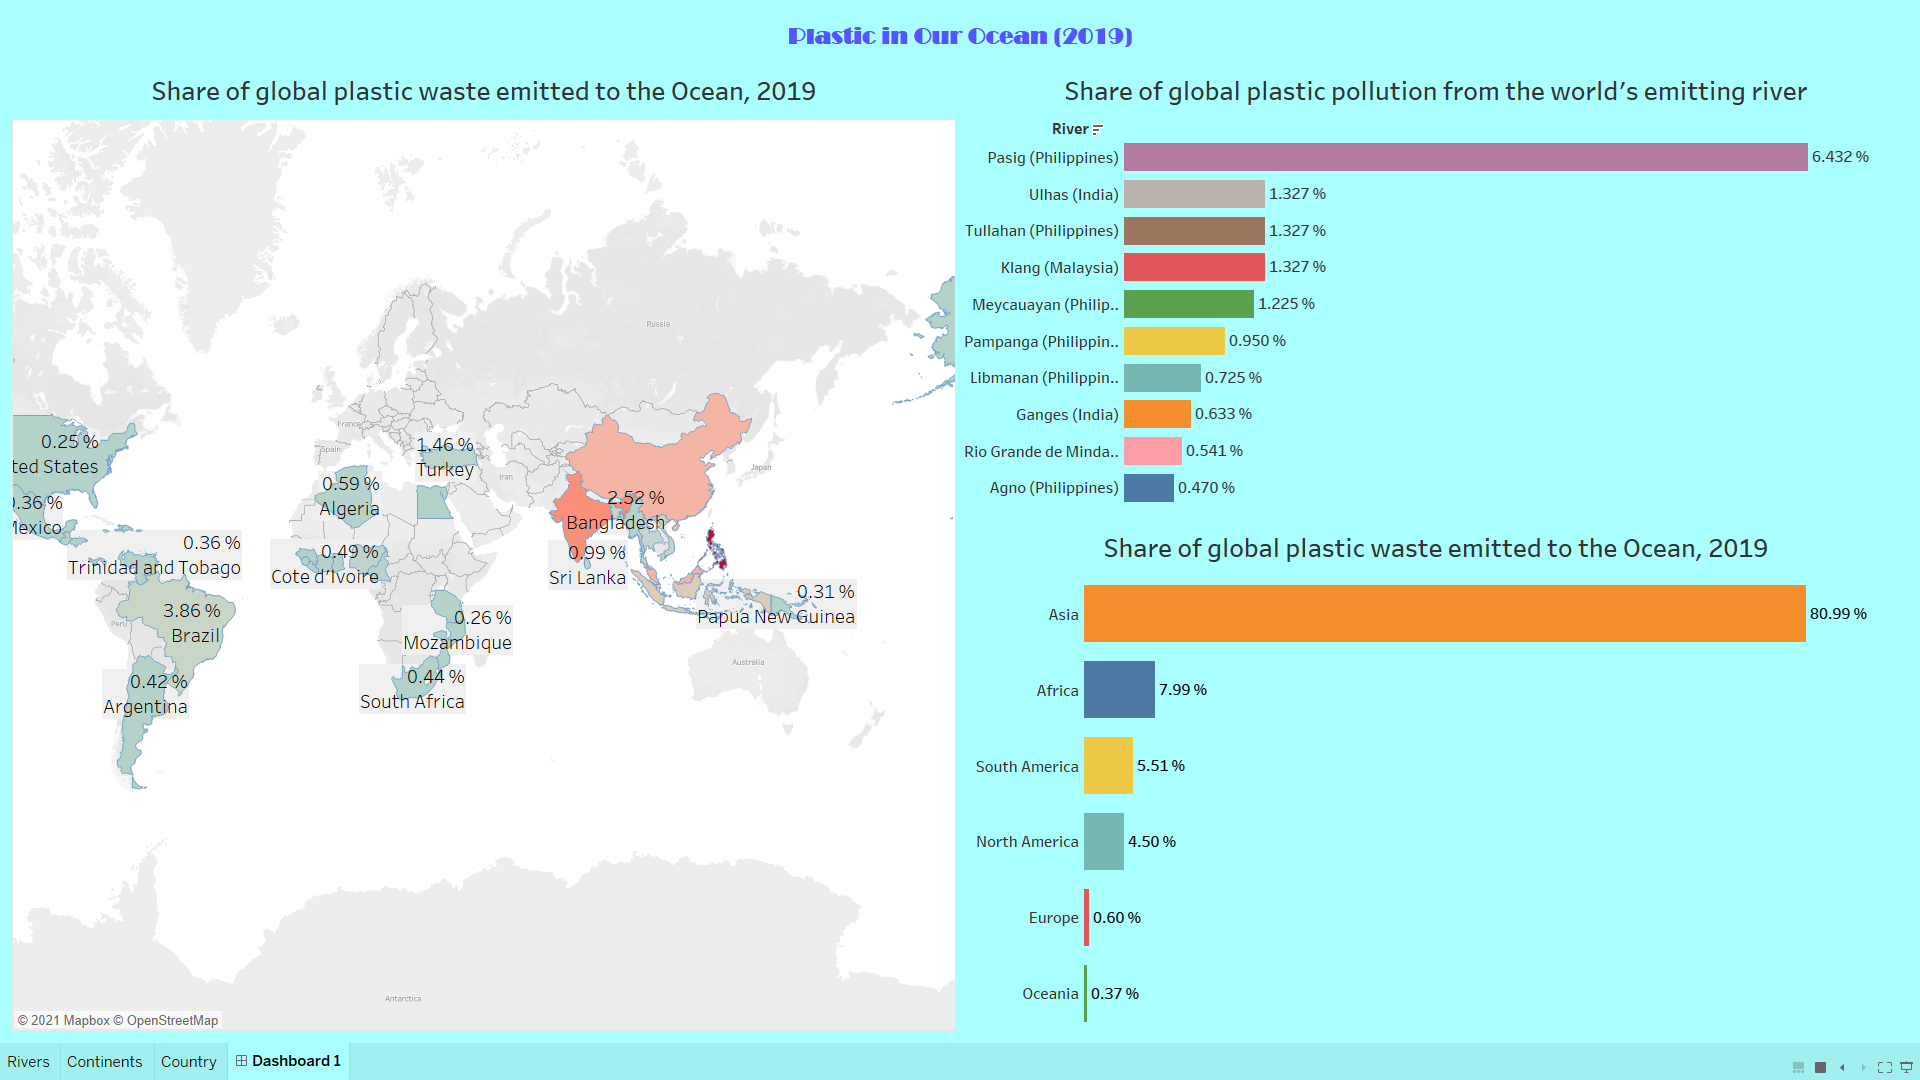

The dashboard page shown, as its layout file describes it:
{"tool":"tableau","page":{"name":"Dashboard 1","canvas":[1000,1000],"units":"permille","ordinal":0},"visuals":[{"type":"worksheet","box":[0,0,1000,1000]},{"type":"worksheet","box":[4.8,9.3,990.3,54.6]},{"type":"worksheet","title":"Country","mark":"Multipolygon","box":[4.8,63.9,495.2,926.9]},{"type":"worksheet","param":"vert","box":[500,63.9,495.2,436.2]},{"type":"worksheet","title":"Rivers","mark":"Automatic","rows":["Entity"],"cols":["Share of global plastics emitted to ocean"],"box":[500,63.9,495.2,436.1]},{"type":"worksheet","param":"vert","box":[500,500,495.2,490.7]},{"type":"worksheet","title":"Continents","mark":"Automatic","rows":["Entity"],"cols":["Share of global plastics emitted to ocean"],"box":[500,500,495.2,490.7]}]}

Visuals, with their boxes on the dashboard's canvas, which has no fixed pixel size, in thousandths of its width and height (x1, y1, x2, y2). These are canvas units, not pixel positions in the 1920x1080 screenshot, which may show the page scaled, cropped or inside an application window:
worksheet: box(0, 0, 1000, 1000)
worksheet: box(5, 9, 995, 64)
"Country" worksheet (Multipolygon marks): box(5, 64, 500, 991)
worksheet: box(500, 64, 995, 500)
"Rivers" worksheet: box(500, 64, 995, 500)
worksheet: box(500, 500, 995, 991)
"Continents" worksheet: box(500, 500, 995, 991)
